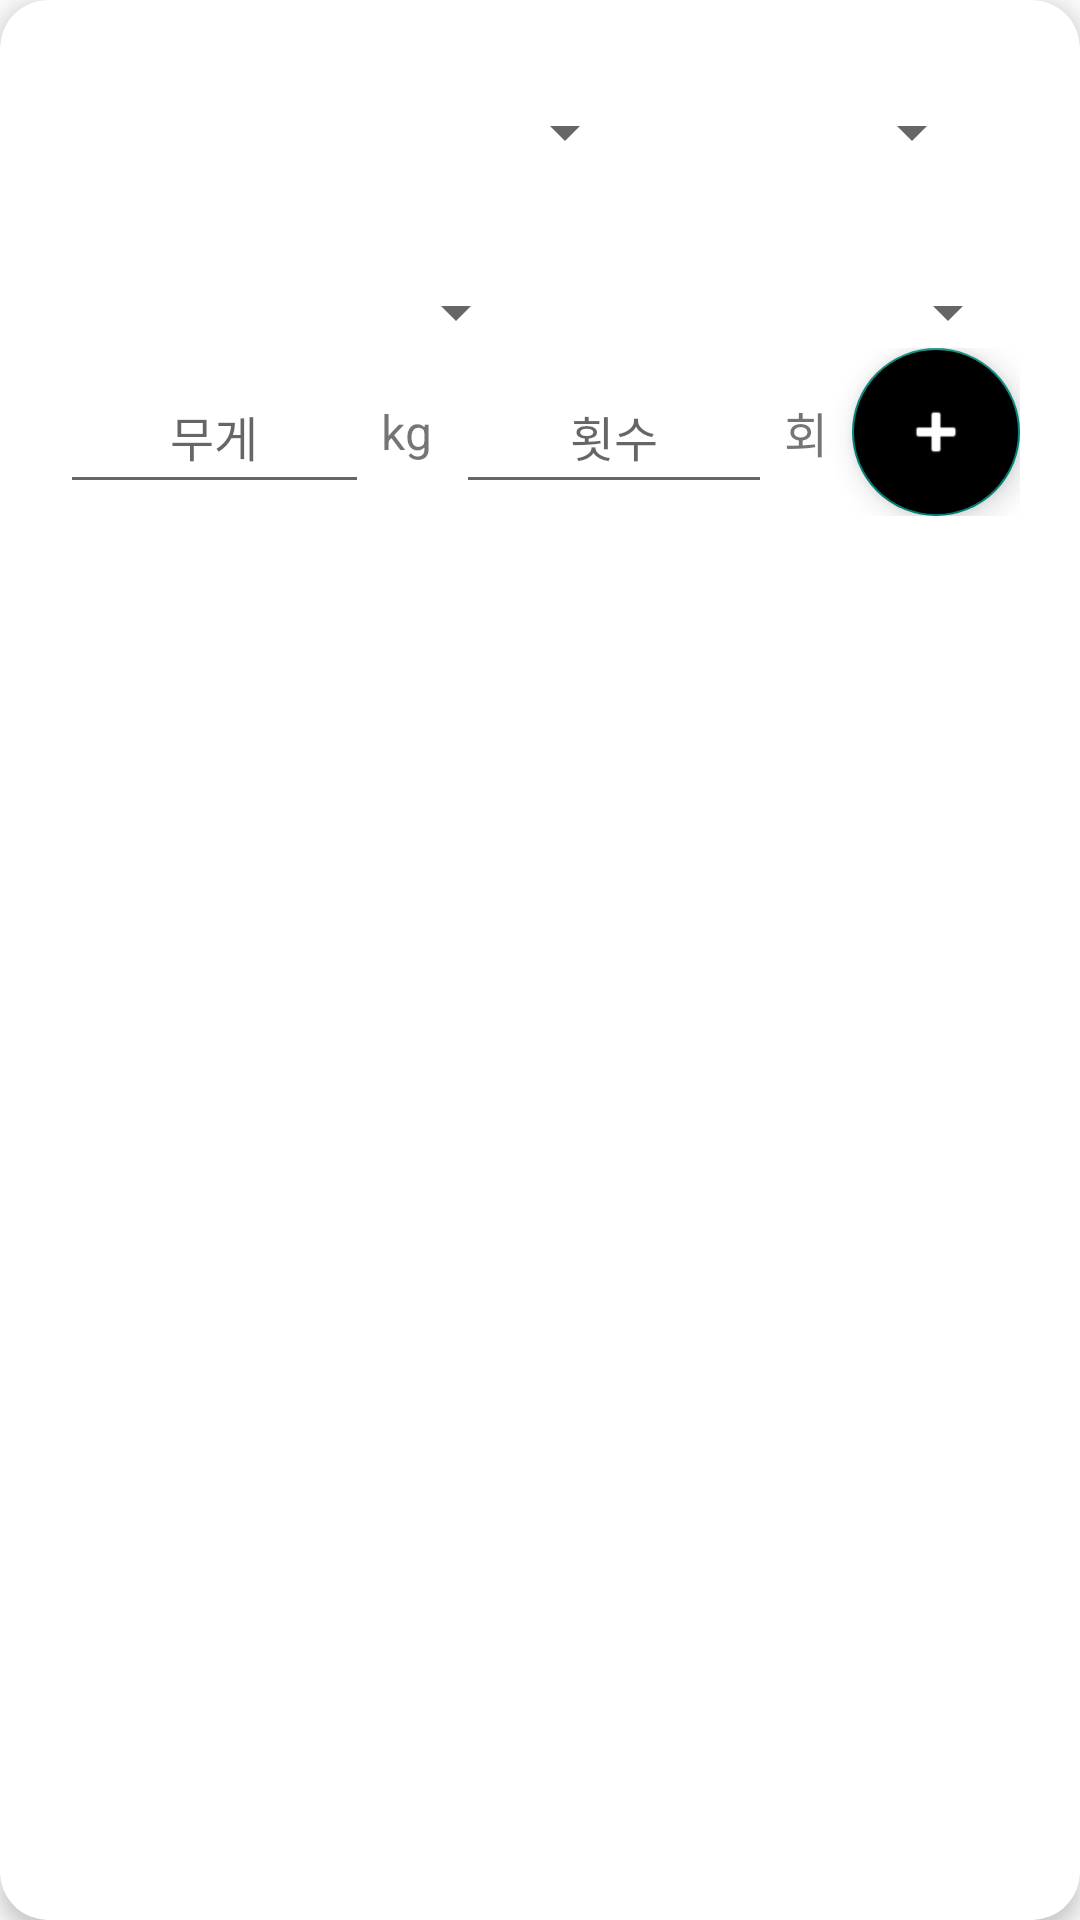

Screen size 1080*1920. Icon name, then its box in pixels as {"x1": x1, "y1": y1, "x2": x2, "y2": y2}:
add: {"x1": 852, "y1": 348, "x2": 1020, "y2": 516}
